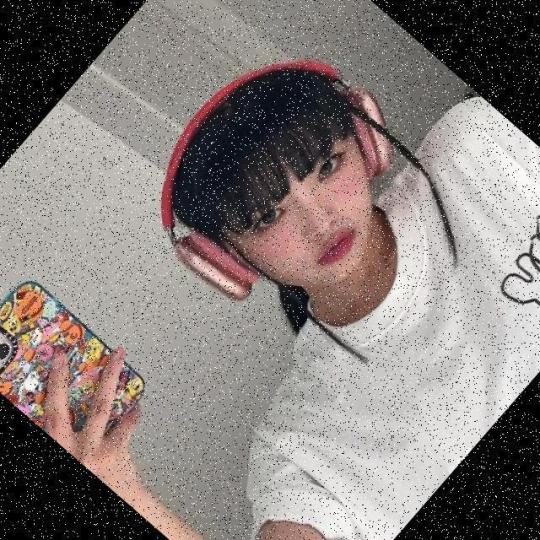phone: (0, 258, 152, 462)
